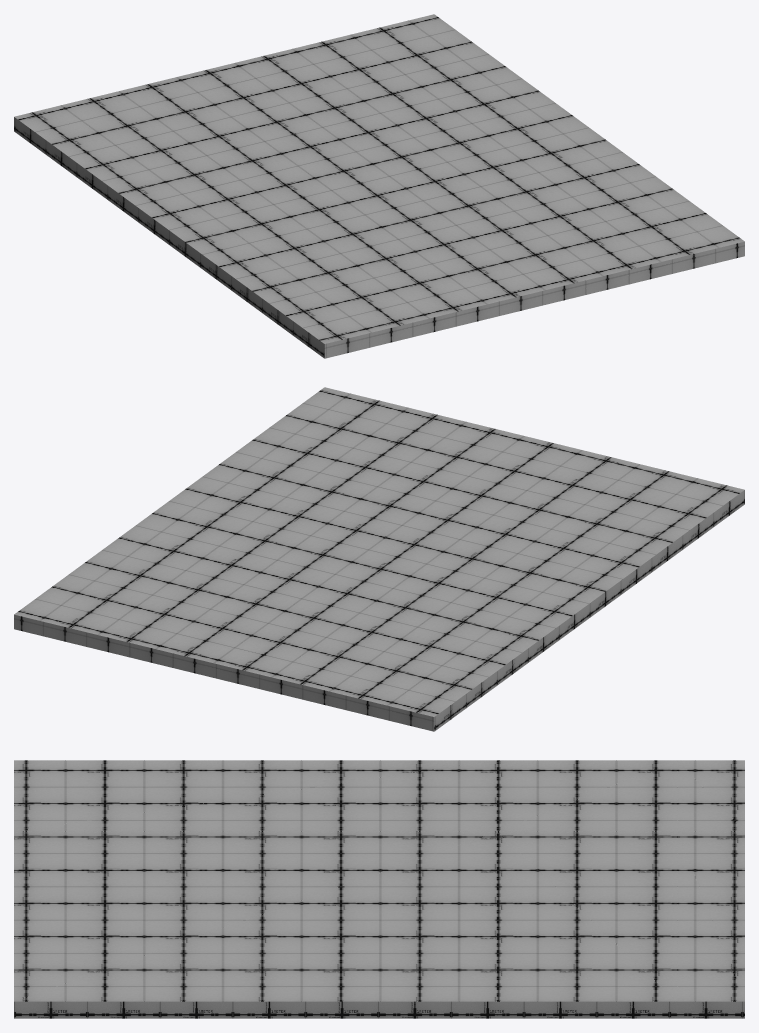
Rendered from Casa_INTERIOR_suelo_sotano.fbx.
3 views of the same model, one above another, from view 1: azimuth 30°, elevation 25°; view 2: azimuth 150°, elevation 25°; view 3: azimuth 270°, elevation 25° (orthographic). The views are drawn at different scales.
Visible parts, largest first — view 1: Casa_INTERIOR_suelo_sotano; view 2: Casa_INTERIOR_suelo_sotano; view 3: Casa_INTERIOR_suelo_sotano.
Part boxes in pixels (x1,y1,x2,y2): Casa_INTERIOR_suelo_sotano: [14, 14, 744, 358]; Casa_INTERIOR_suelo_sotano: [14, 387, 744, 731]; Casa_INTERIOR_suelo_sotano: [14, 760, 744, 1018].
Size of the model in its own units: 9.73 by 0.3243 by 12.45.
